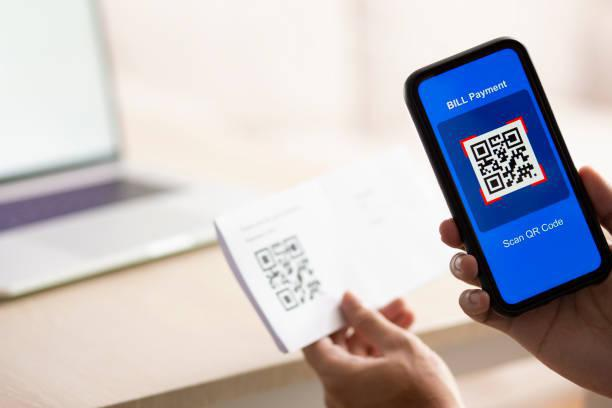Finder pattern: (274, 287, 301, 314), (500, 124, 525, 152), (251, 246, 277, 272), (281, 233, 305, 260), (482, 171, 506, 196), (470, 139, 494, 162)
